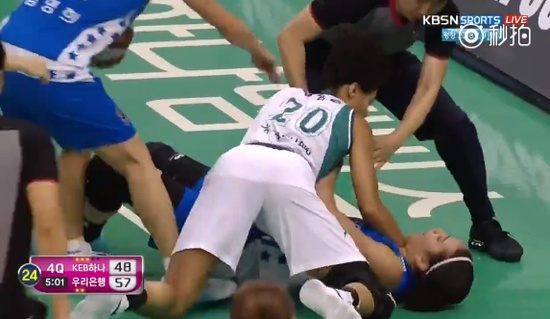falling: (107, 66, 443, 319)
